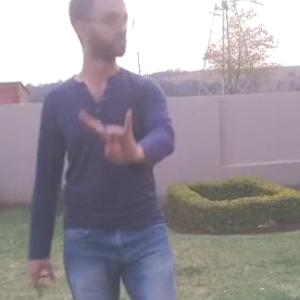takeoff-hand: (73, 97, 143, 170)
